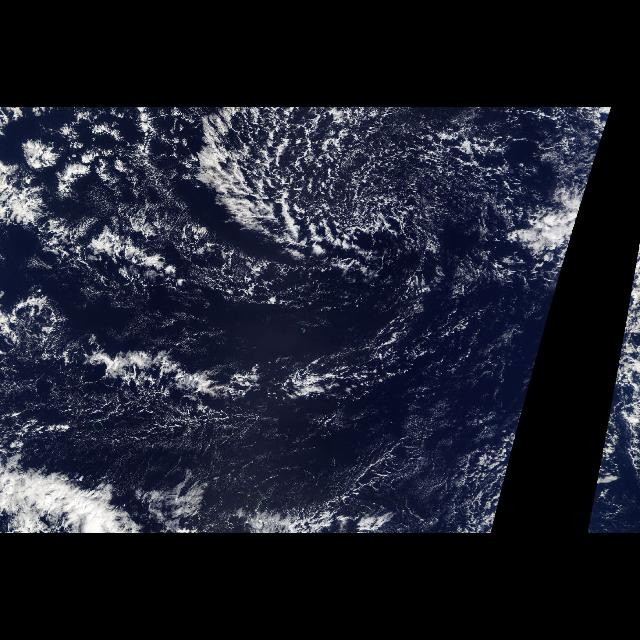Fish: (5, 450, 382, 528)
Gravel: (228, 108, 560, 368)
Sugar: (36, 371, 454, 495), (302, 116, 490, 304)
